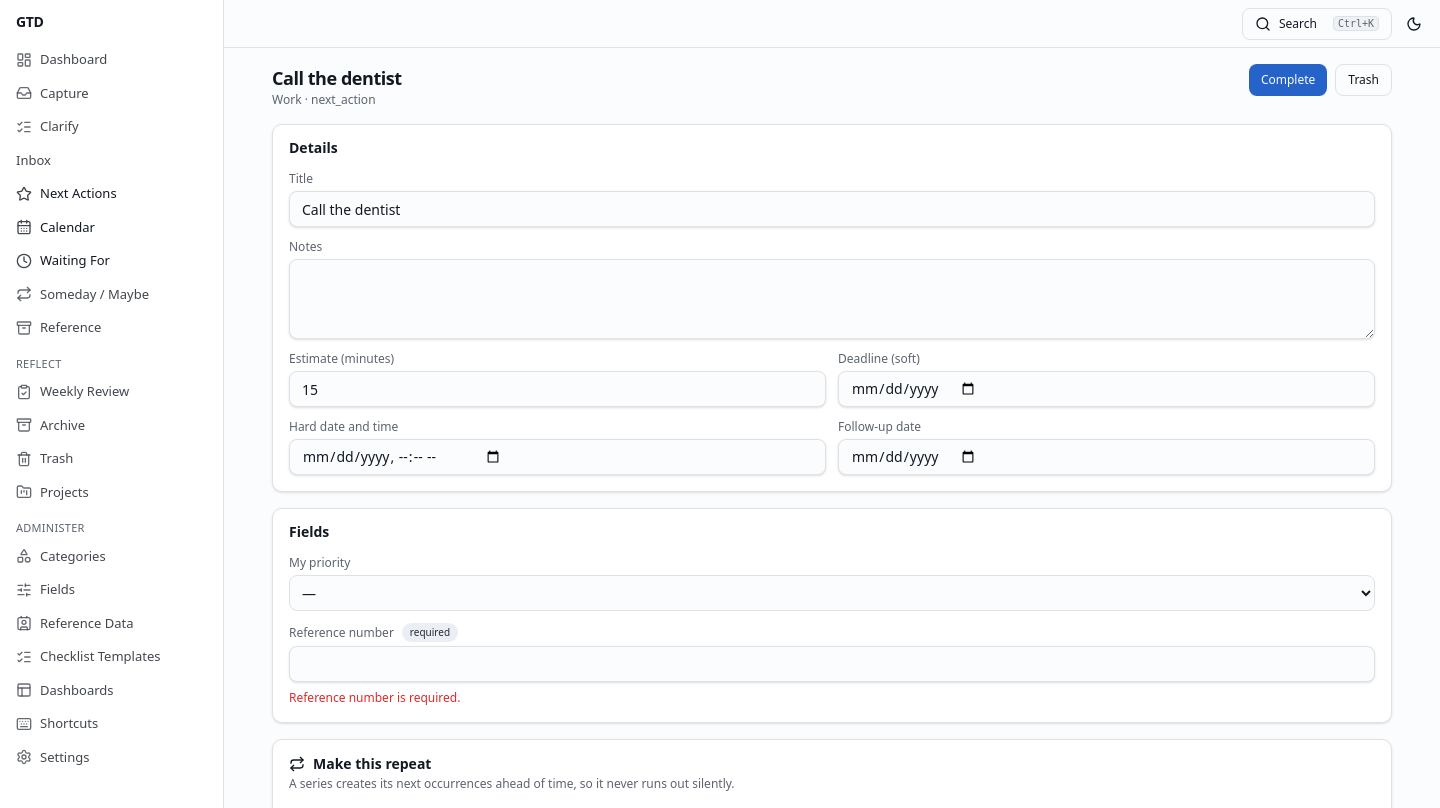
lifecycle actions › explains a refused move instead of silently failing
Click the button "Trash": {"x": 1364, "y": 80} [1335,64,1392,96]
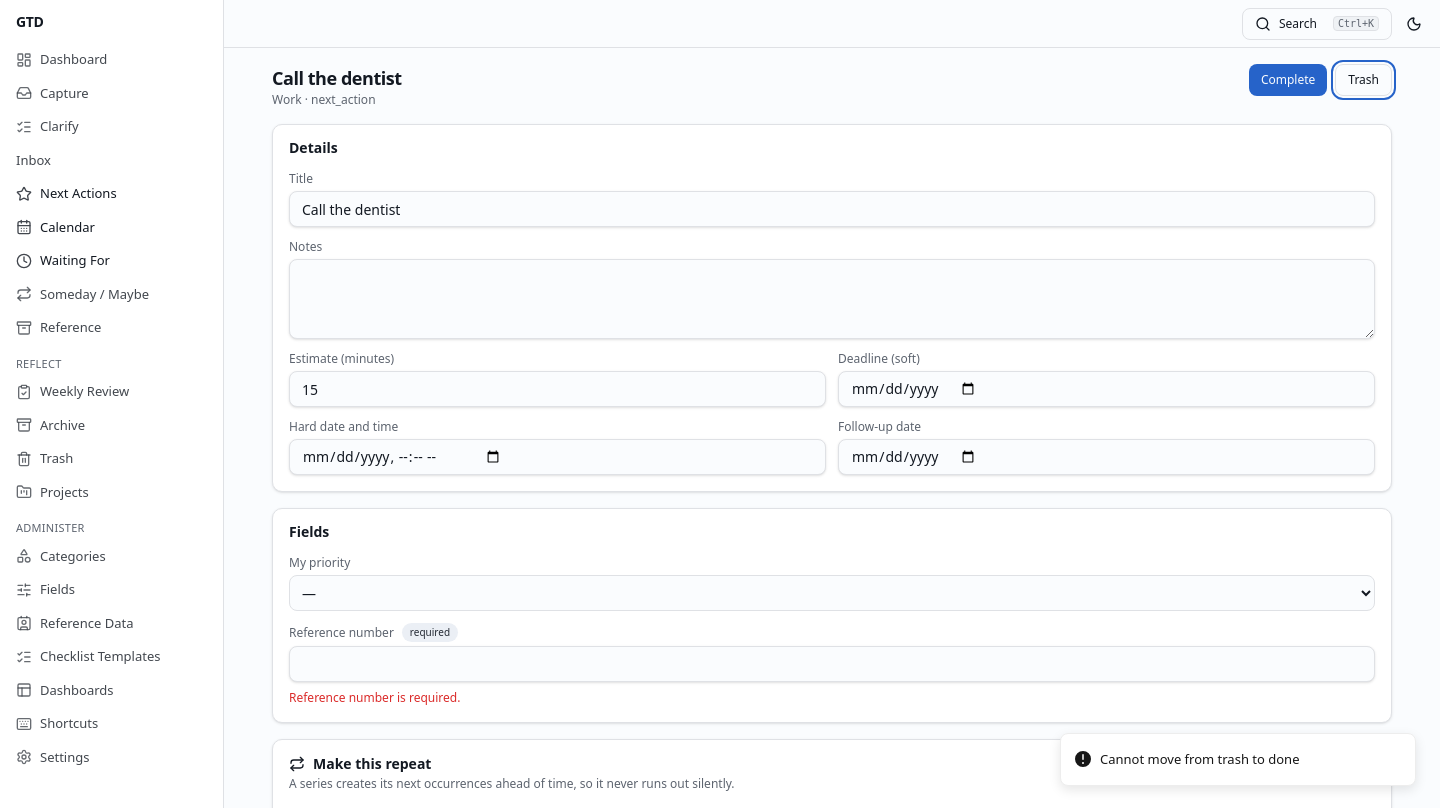
Expected: the text "Cannot move from trash to done" is shown, [1100,750,1300,769]
